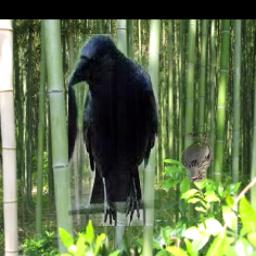Crow: (67, 34, 157, 226)
Sparrow: (181, 132, 214, 182)
